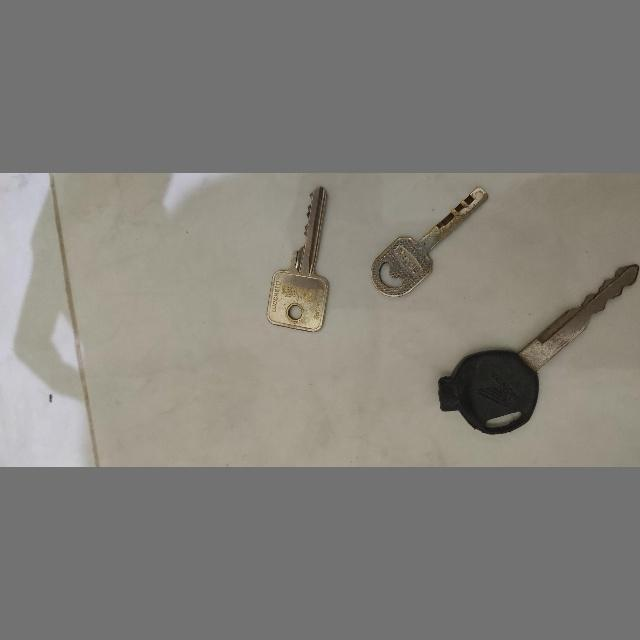Keys: (432, 260, 640, 440), (367, 184, 489, 308), (262, 182, 338, 342)
